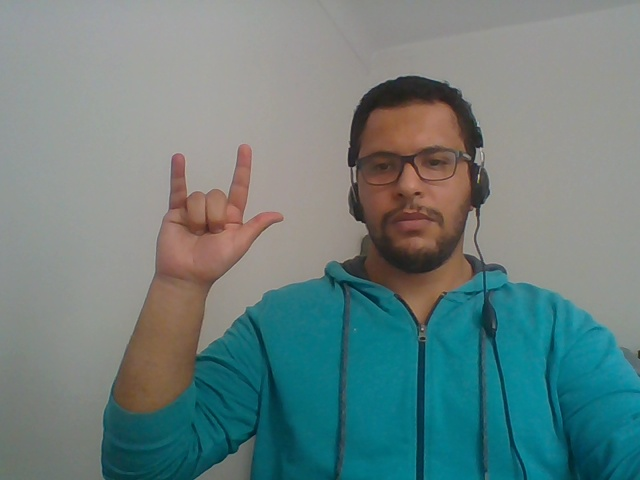iloveyou: (118, 122, 297, 355)
